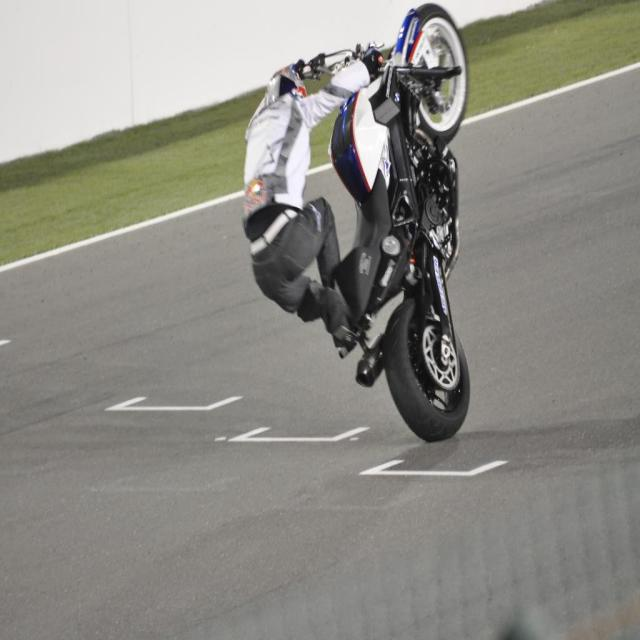bus: (251, 24, 491, 432)
